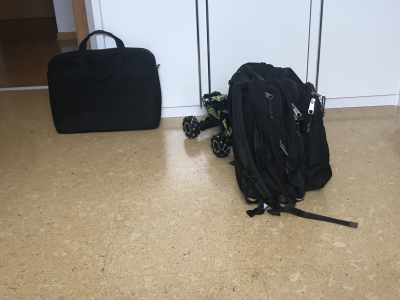remote control car: (179, 90, 244, 160)
